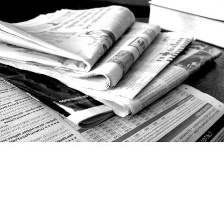news_paper: (0, 80, 224, 142), (61, 38, 223, 118), (0, 15, 163, 92), (45, 28, 197, 101), (0, 4, 137, 70)
